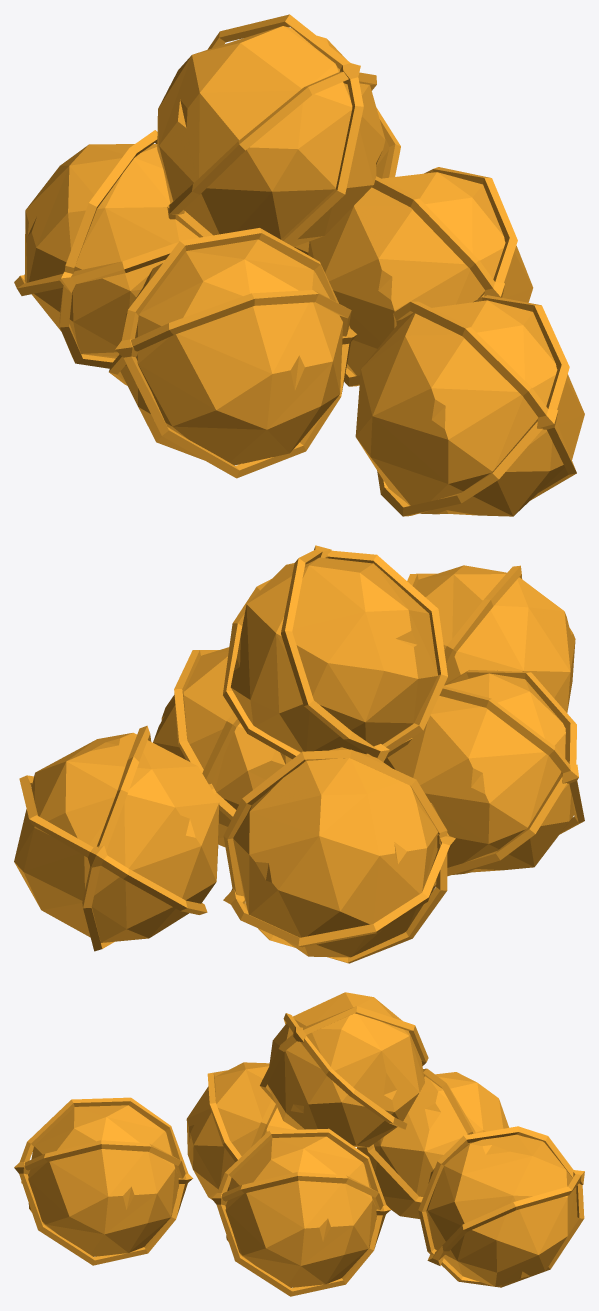
File: SM_Catapult_Ammo_Ball_Rope_Pile.fbx
3 renders of one model, top to bottom at view 1: azimuth 30°, elevation 25°; view 2: azimuth 150°, elevation 25°; view 3: azimuth 270°, elevation 25°, orthographic. The views are drawn at different scales.
Visible parts, largest first — view 1: catapult-ammo-ball-rope-pile; view 2: catapult-ammo-ball-rope-pile; view 3: catapult-ammo-ball-rope-pile.
Part boxes in pixels (x1,y1,x2,y2): catapult-ammo-ball-rope-pile: (14, 14, 584, 516); catapult-ammo-ball-rope-pile: (14, 545, 584, 963); catapult-ammo-ball-rope-pile: (14, 992, 584, 1296).
Bounding box in the file's own units: 1.01 × 0.8224 × 1.68.
